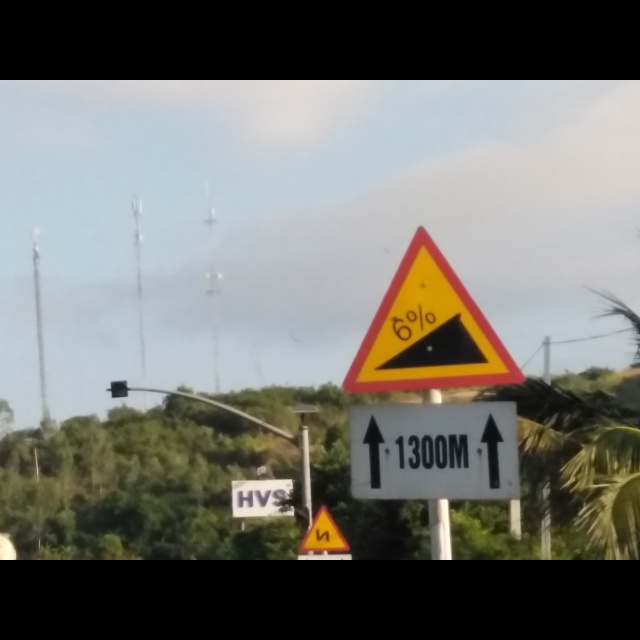Dốc lên nguy hiểm: (340, 221, 526, 394)
Ngoặt nguy hiểm liên tiếp bên phải: (295, 501, 348, 554)
